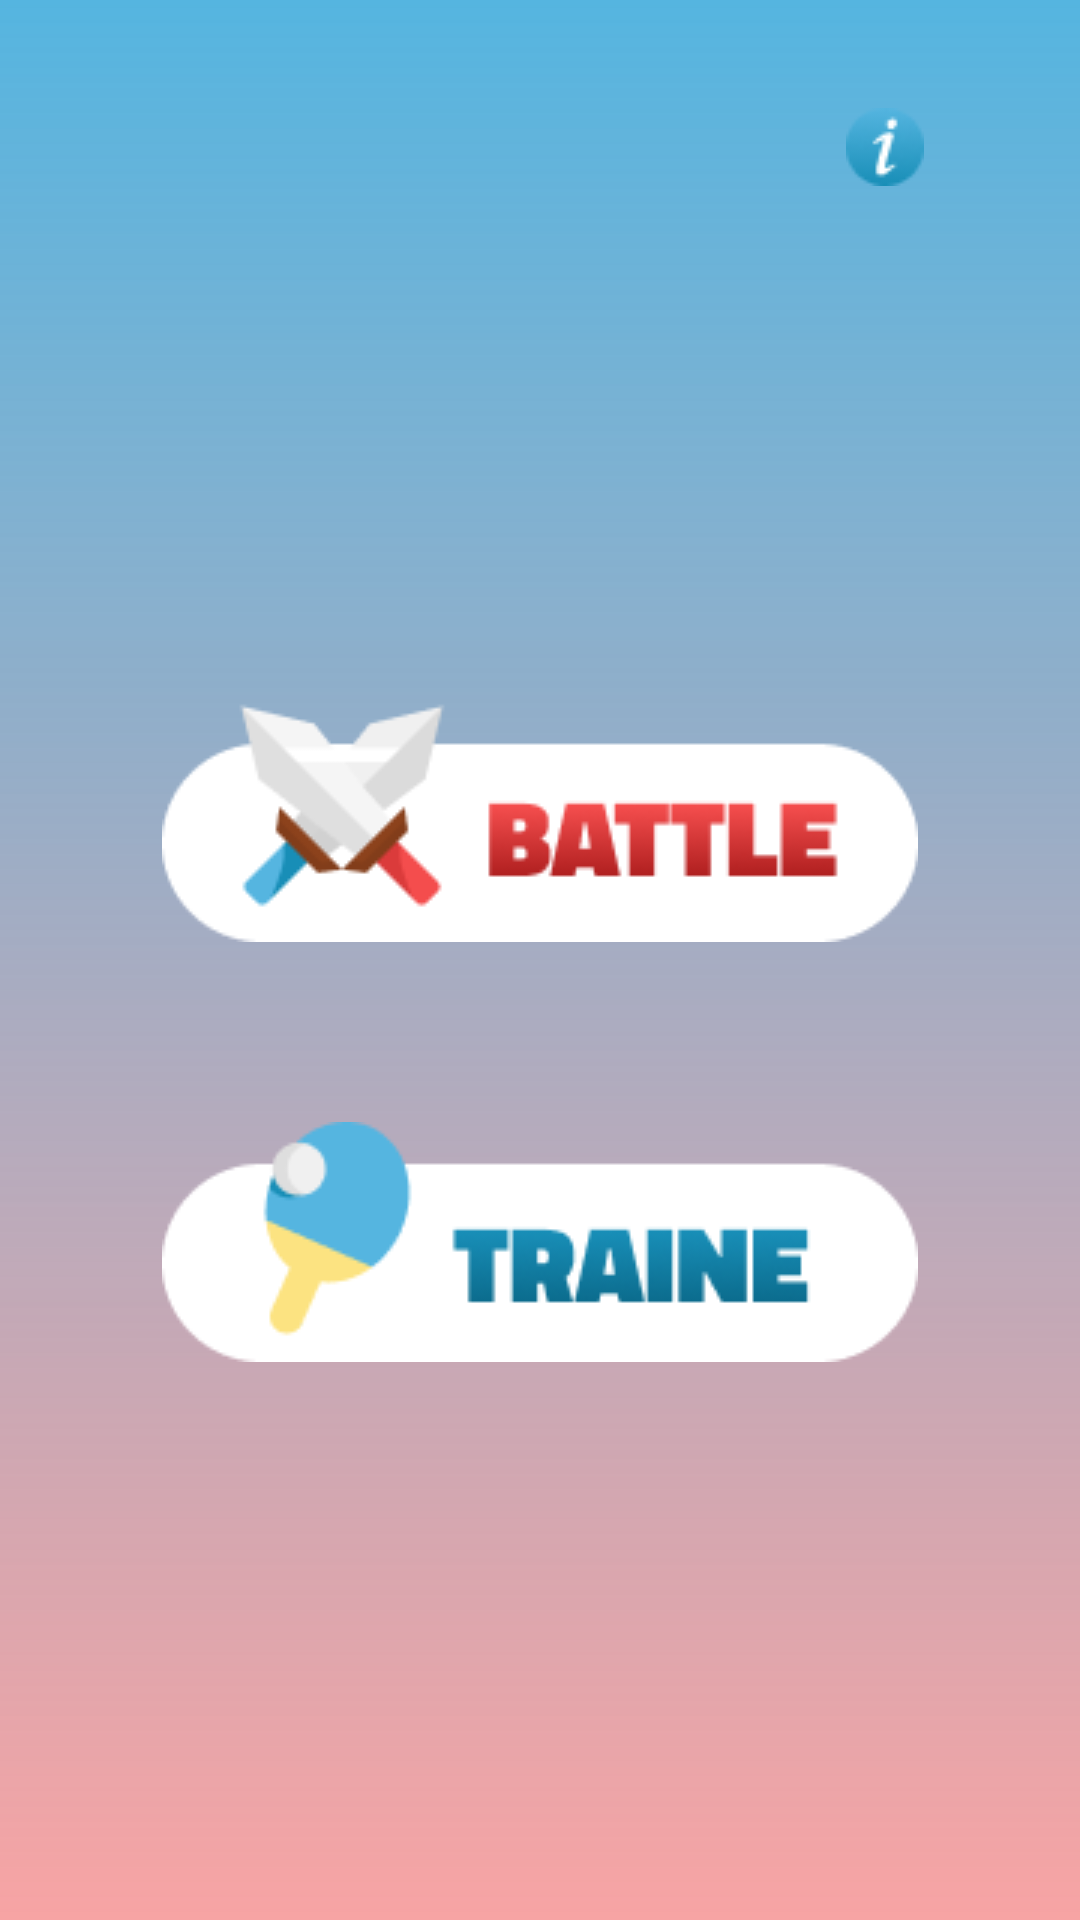

Screen size 1080px×1920px. Icon name, then its box in pixels as (x1, y1, x2, y2):
info: (846, 118, 924, 186)
